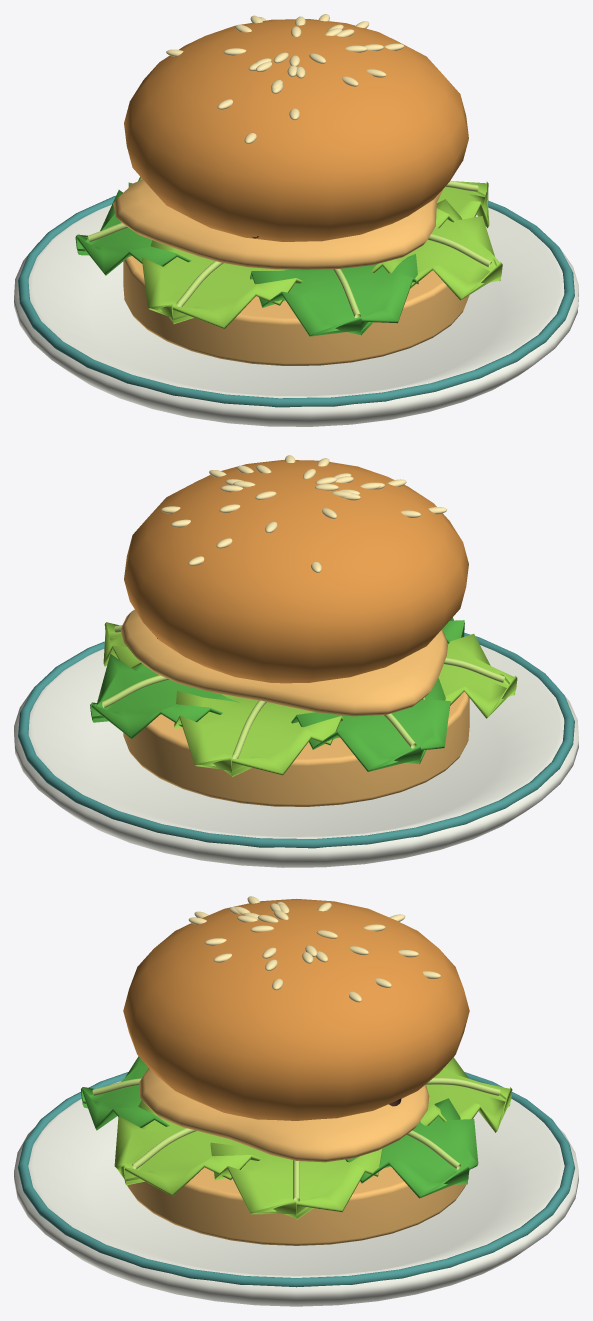
The model's file is chicken-sandwich.glb.
3 views of the same model, one above another, from view 1: azimuth 30°, elevation 25°; view 2: azimuth 150°, elevation 25°; view 3: azimuth 270°, elevation 25° (orthographic).
Parts seen in each view (by area): view 1: chicken-sandwich_mesh; view 2: chicken-sandwich_mesh; view 3: chicken-sandwich_mesh.
Boxes of the visible parts, box(x1,y1,x2,y2) form: chicken-sandwich_mesh: box(14, 14, 578, 426); chicken-sandwich_mesh: box(14, 455, 578, 867); chicken-sandwich_mesh: box(14, 896, 578, 1306).
Size of the model in its own units: 0.375 by 0.2088 by 0.375.
